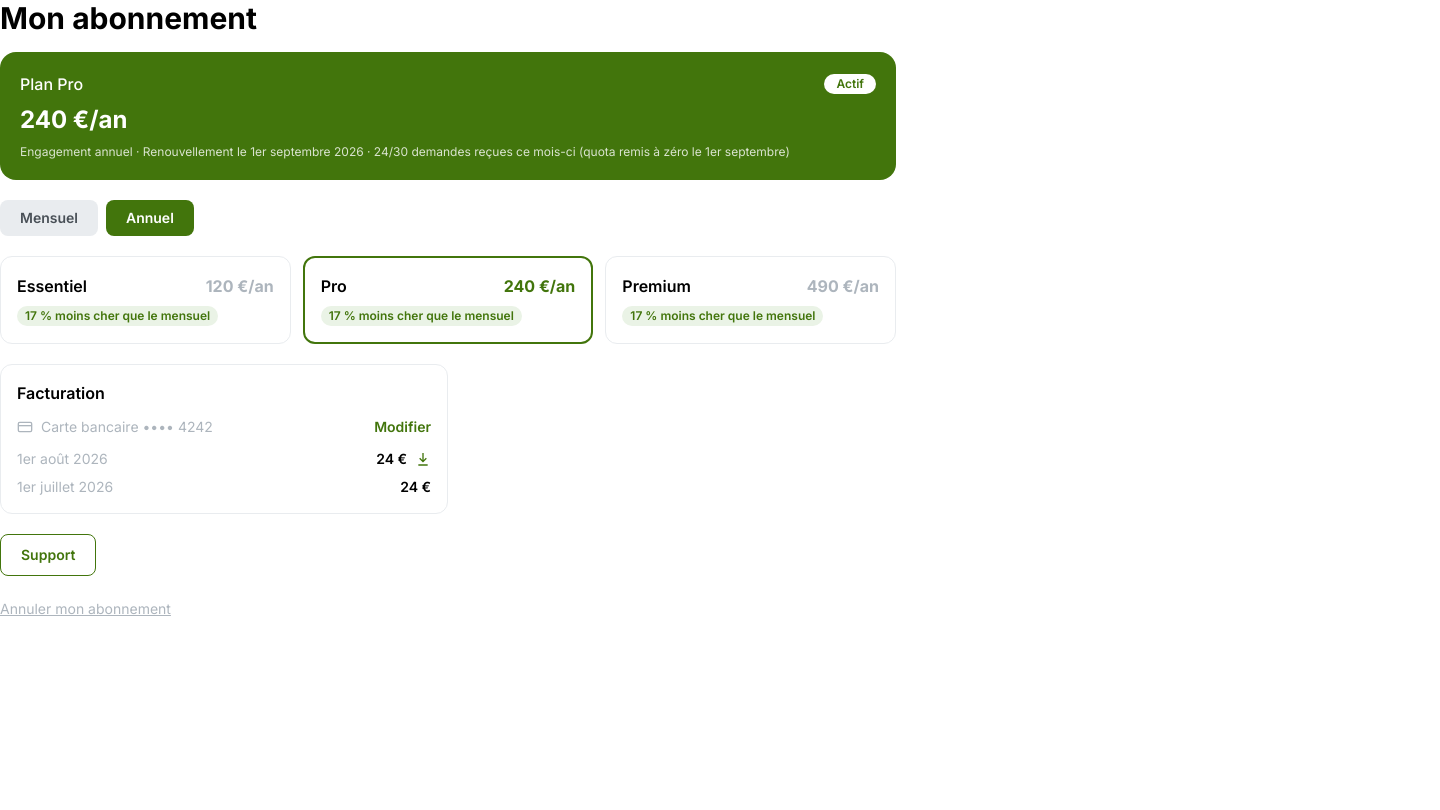
Scenario: SubscriptionComponent › sous engagement annuel, passer au mensuel attend la fin de l'engagement, sans rien facturer ni rendre
Click the button "Mensuel".
click(49, 218)  # box 0,200 -> 98,236
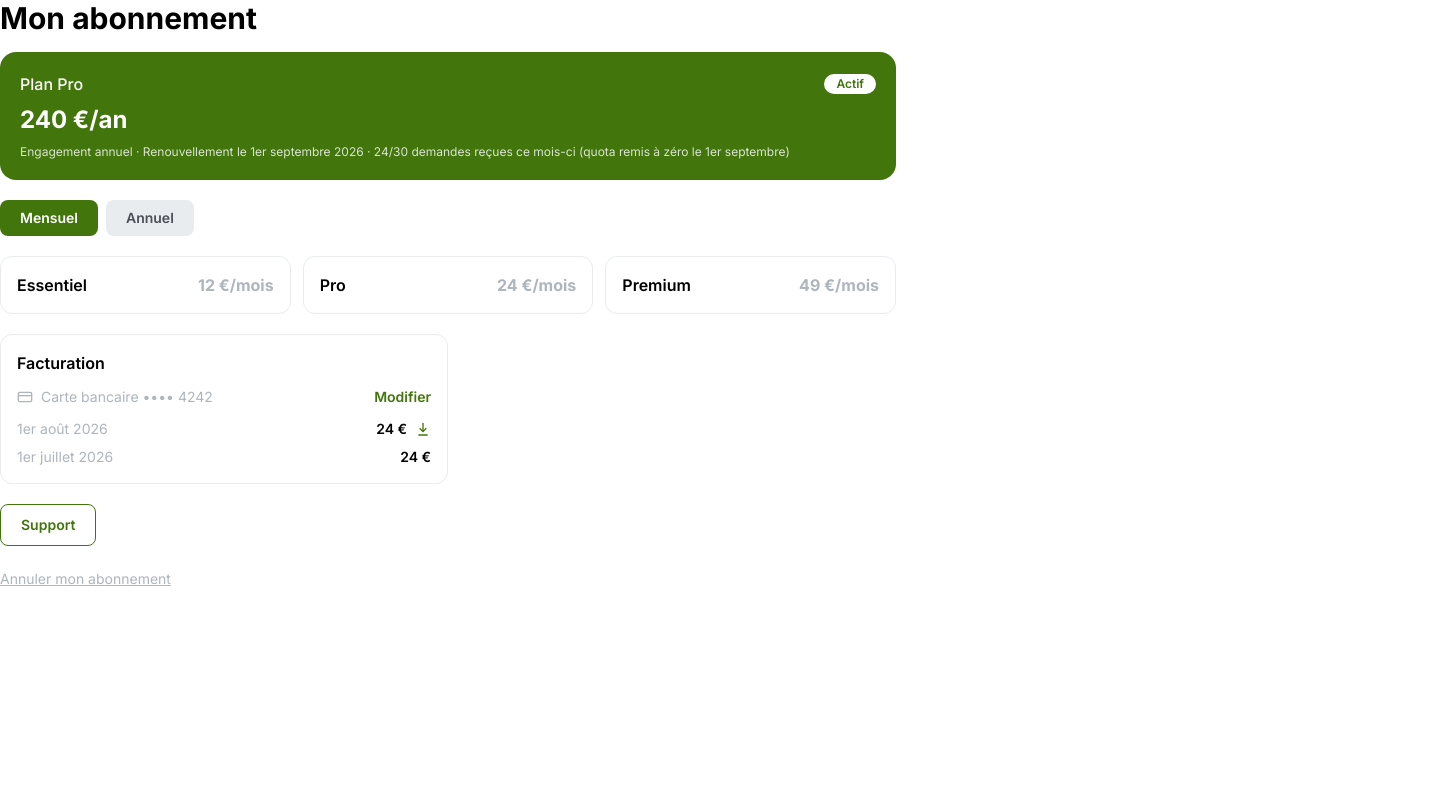
Click the button "Pro 24 €/mois".
click(537, 285)  # box 303,256 -> 593,314
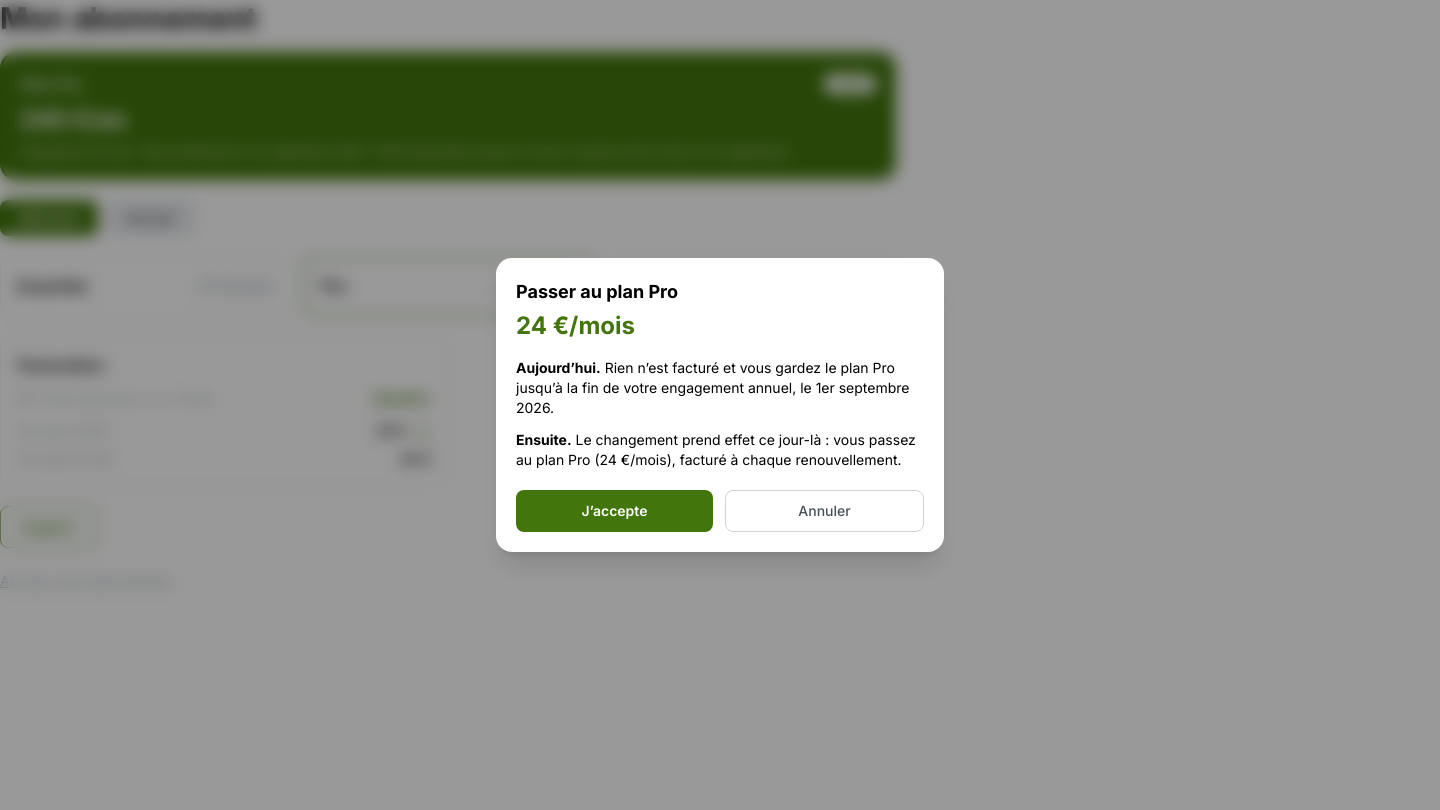
Expected: the dialog shows "Rien n’est facturé et vous gardez le plan Pro jusqu’à la fin de votre engagement annuel, le 1er septembre 2026.", 496,258 -> 944,552
Expected: the dialog shows "vous passez au plan Pro (24 €/mois), facturé à chaque renouvellement", 516,431 -> 916,468
Click the button "J’accepte".
click(614, 511)  # box 516,490 -> 713,532
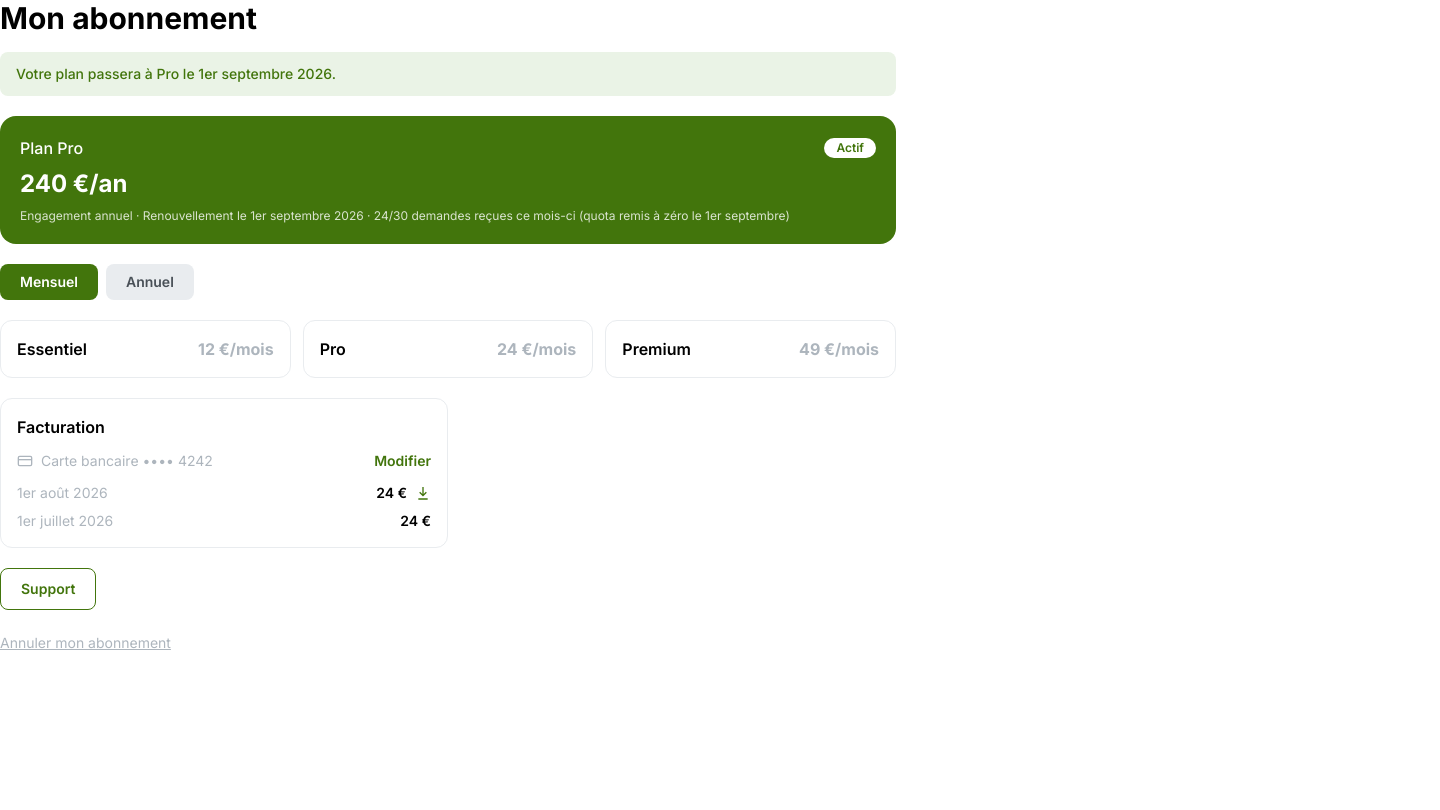
Expected: the text "Votre plan passera à Pro le 1er septembre 2026." is shown, 0,52 -> 896,96
